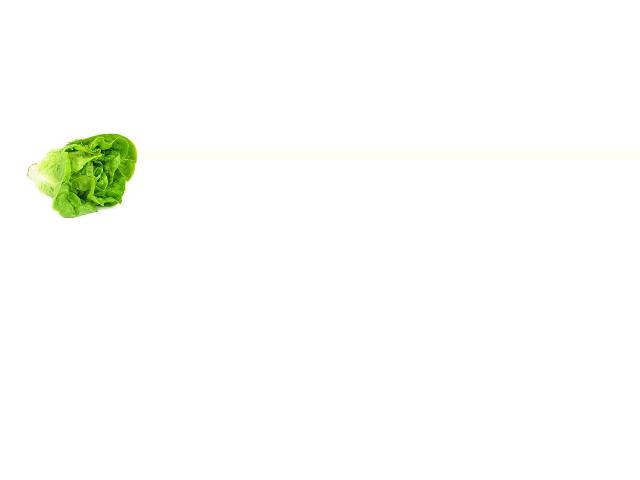lettuce: (23, 131, 137, 224)
